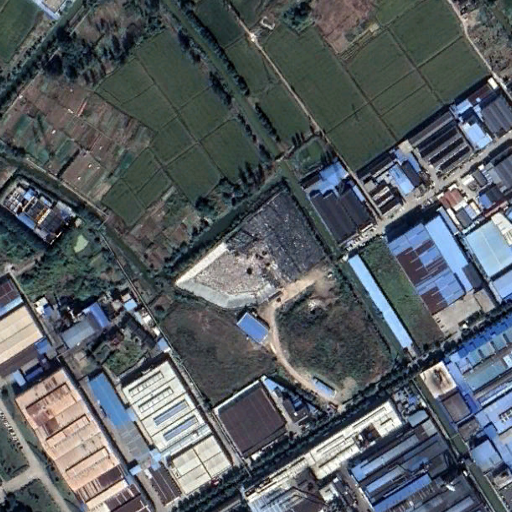lf: (176, 189, 329, 306)
